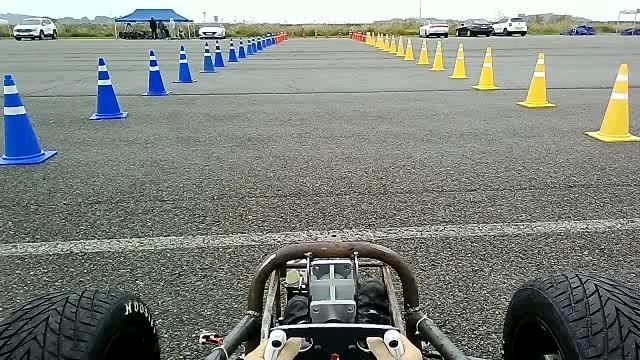blue cone: (0, 73, 57, 165), (88, 56, 128, 120), (141, 49, 171, 96), (172, 44, 198, 83), (199, 41, 217, 73)
yellow cone: (583, 62, 639, 142), (515, 52, 556, 107), (470, 46, 501, 90), (448, 42, 470, 79), (428, 40, 446, 71)
